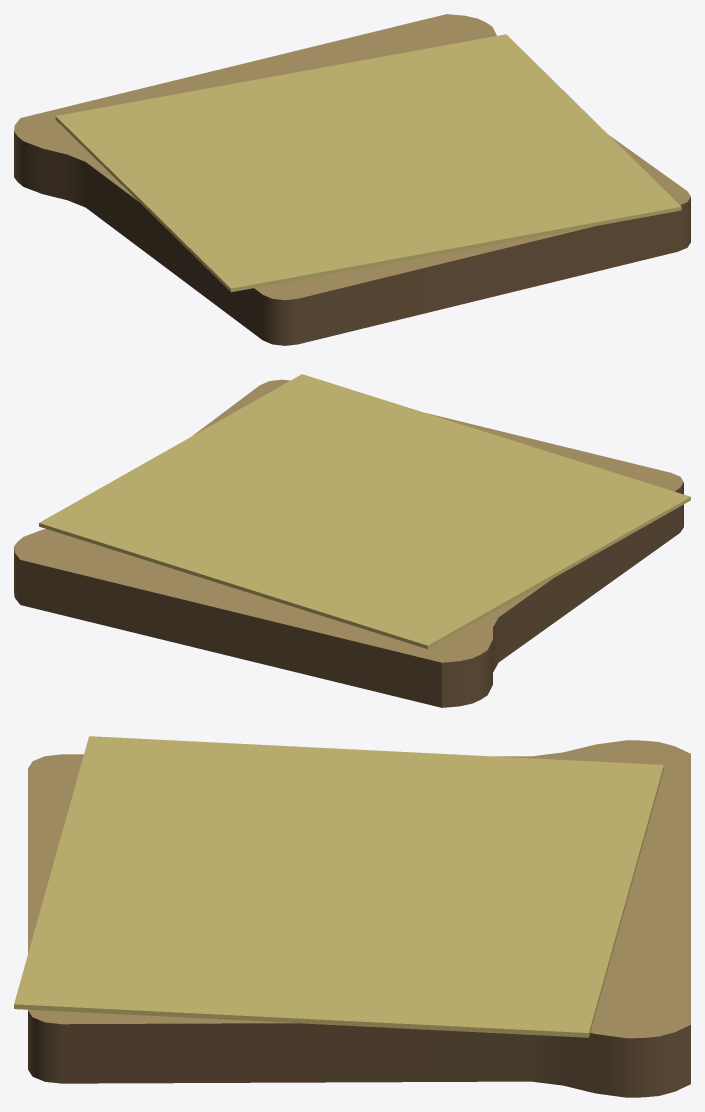
Rendered from Pan con queso.fbx.
The picture shows the model from 3 angles, top to bottom: view 1: azimuth 30°, elevation 25°; view 2: azimuth 150°, elevation 25°; view 3: azimuth 270°, elevation 25°; orthographic projection. The views are drawn at different scales.
Visible parts, largest first — view 1: pan; view 2: pan; view 3: pan.
Boxes of the visible parts, x1,y1,x2,y2 form: pan: (14,14,690,345); pan: (14,374,690,707); pan: (14,736,690,1097).
Size of the model in its own units: 6.45 by 0.6468 by 6.19.
